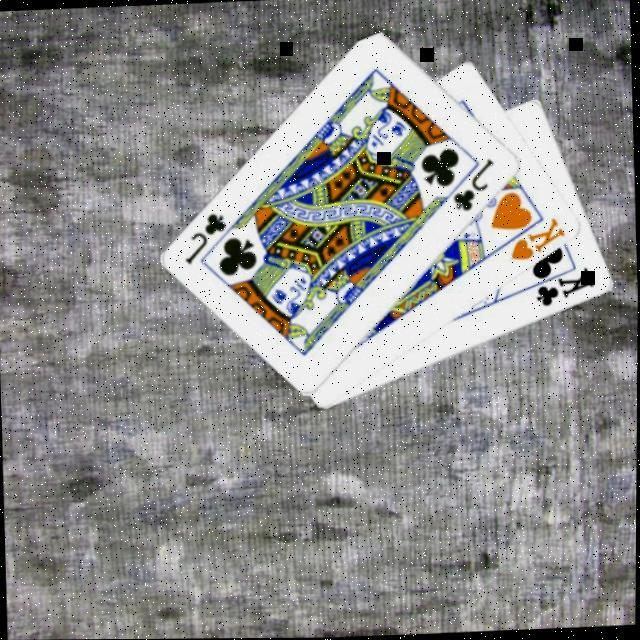JC: (180, 211, 232, 270), (450, 157, 500, 217)
KC: (523, 264, 599, 312)
KH: (506, 216, 570, 266)
